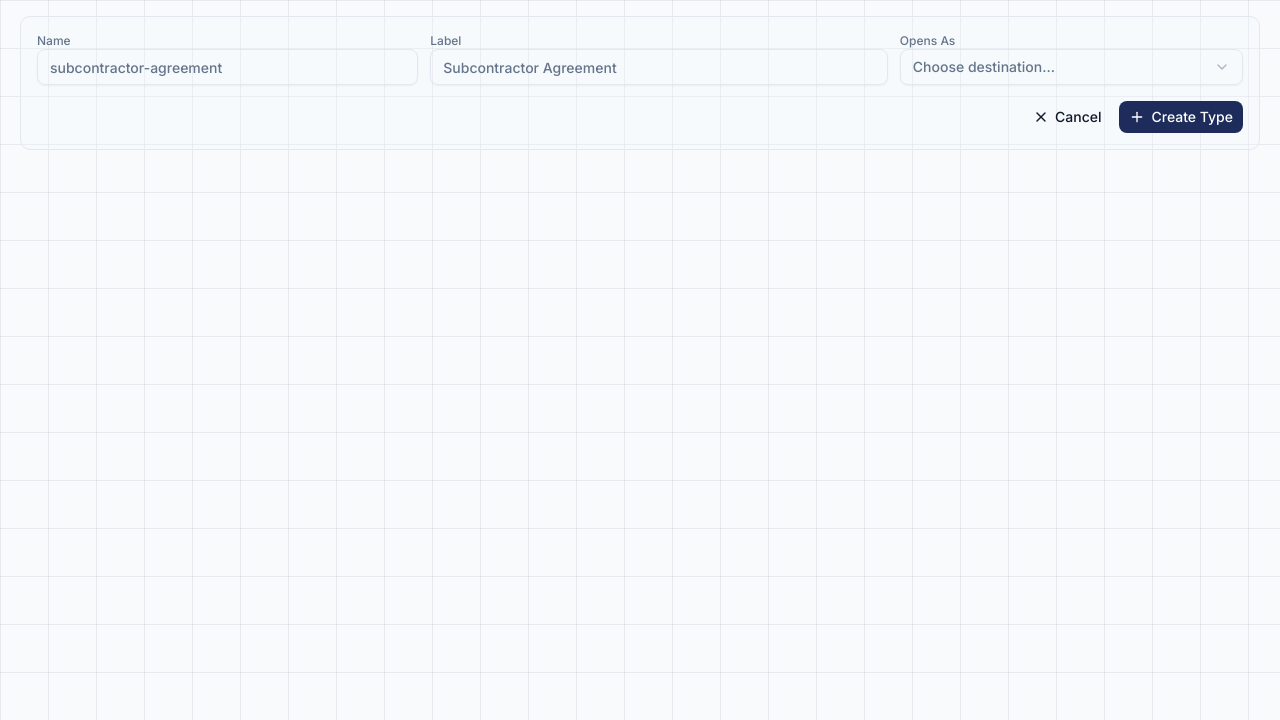
Test: DocumentTypesAddForm › shows validation messages before submit
The width and height of the screenshot is (1280, 720).
Click the button "Create Type" at {"x": 1181, "y": 117}, box [1120,101,1243,133]
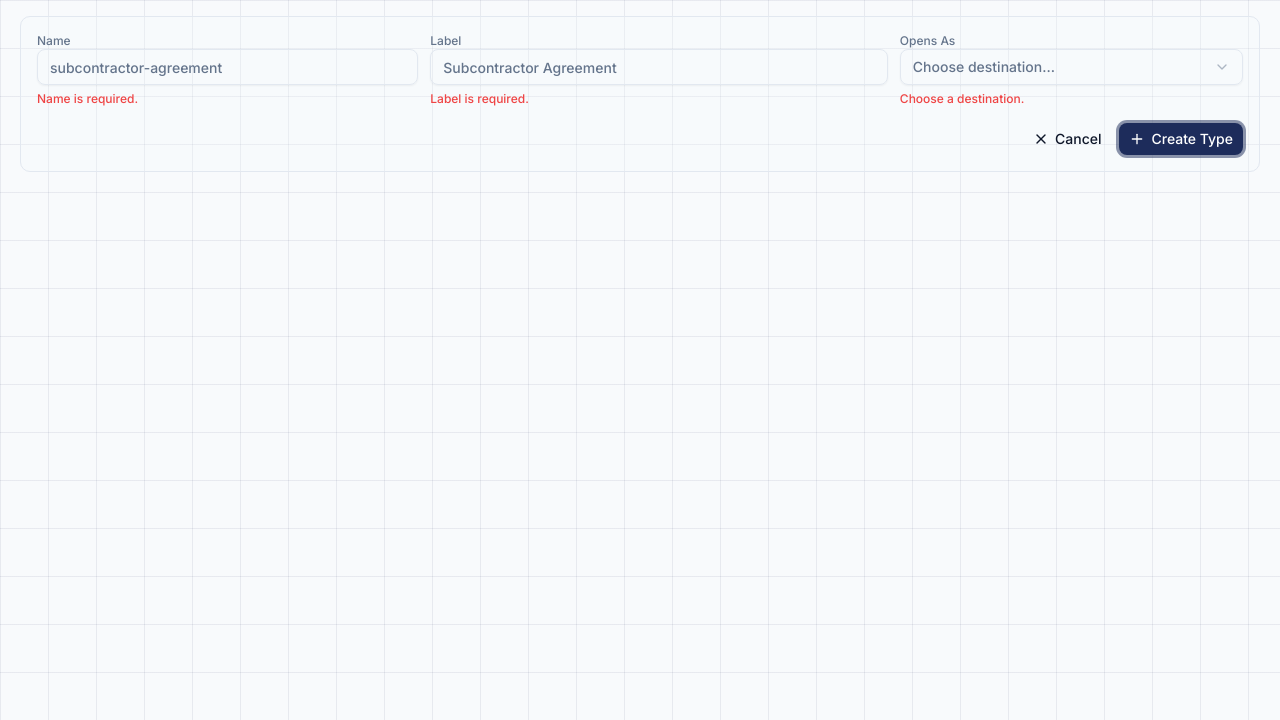
Result: the text "Name is required." is shown at [37,91,138,106]
Result: the text "Label is required." is shown at [430,91,529,106]
Result: the text "Choose a destination." is shown at [900,91,1024,106]
